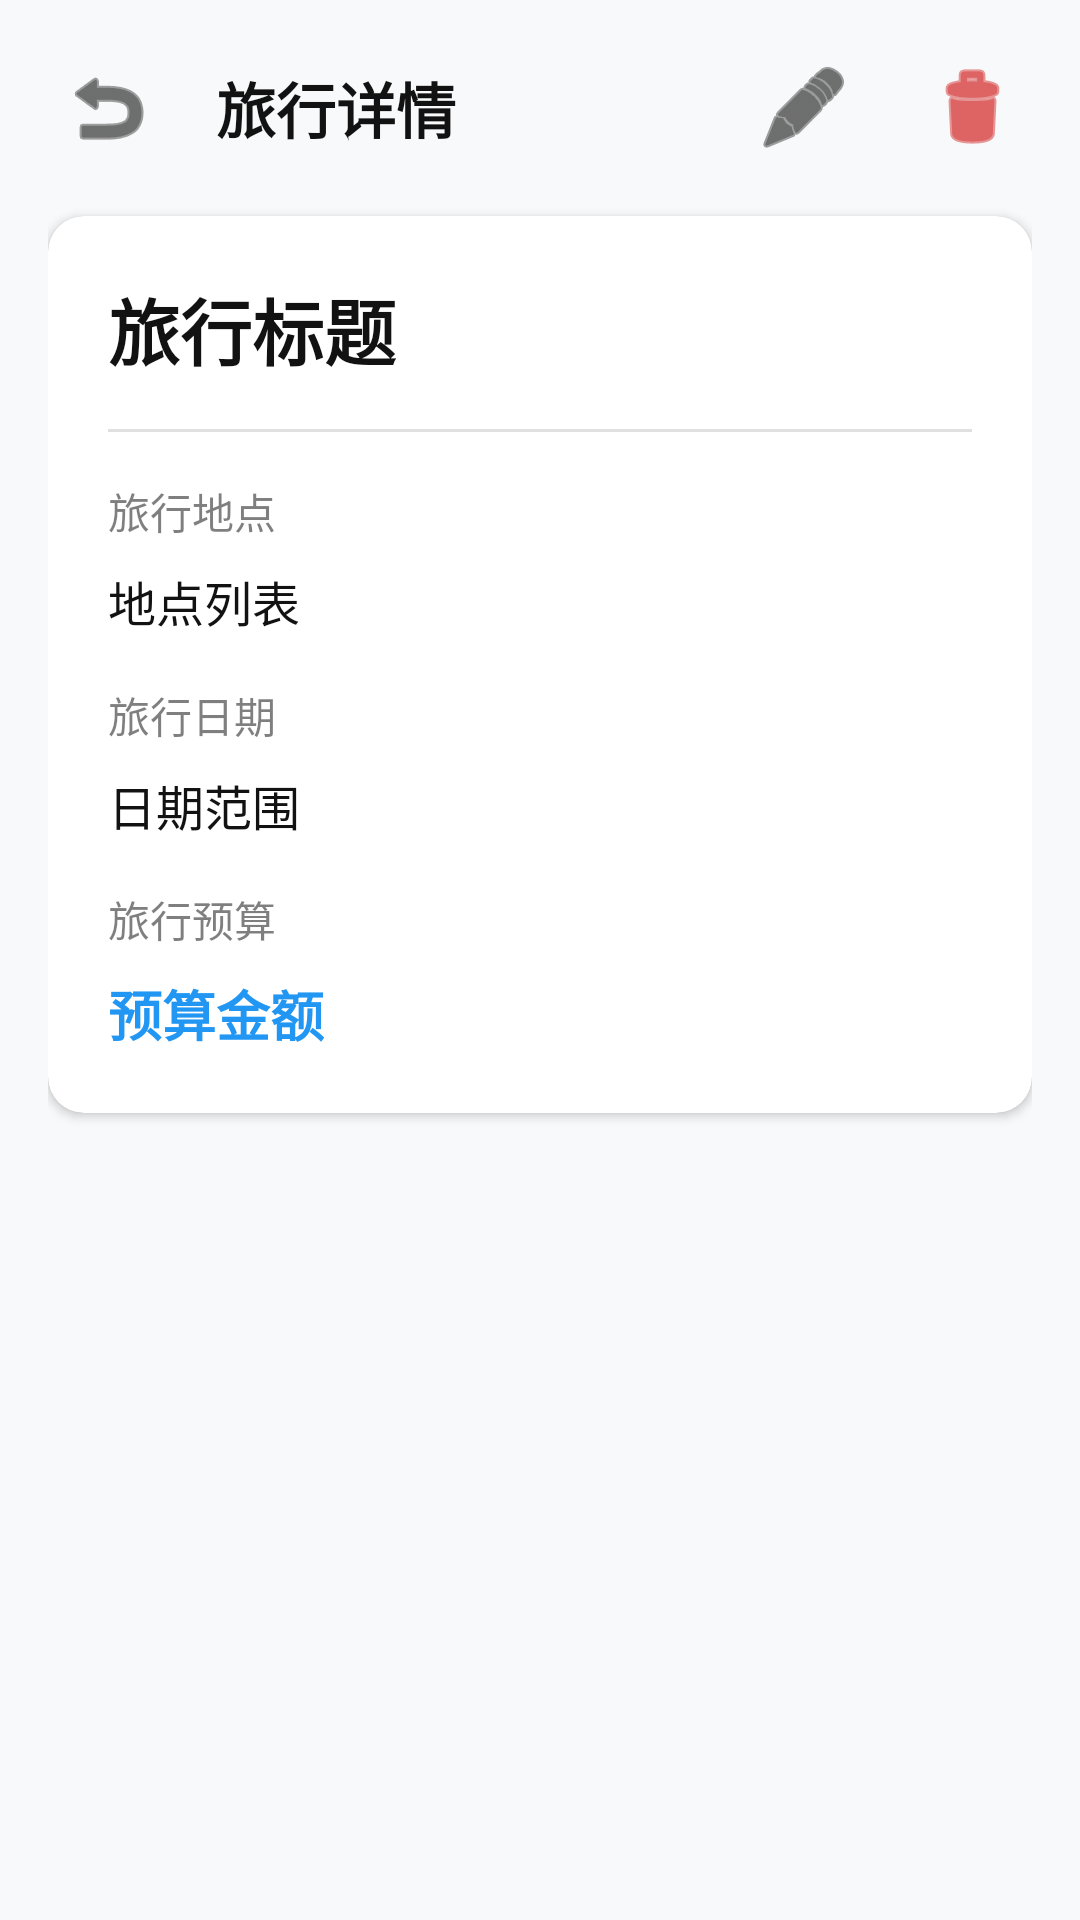

Locate icon controls on the screen. Image size 1080px×1920px, boxes as (left=x1, top=y1, right=x2, bottom=y2).
delete: (left=945, top=69, right=1000, bottom=144)
edit: (left=763, top=67, right=844, bottom=148)
revert: (left=75, top=77, right=144, bottom=140)
